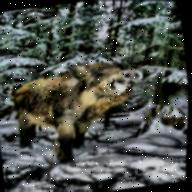boar: (3, 42, 163, 173)
